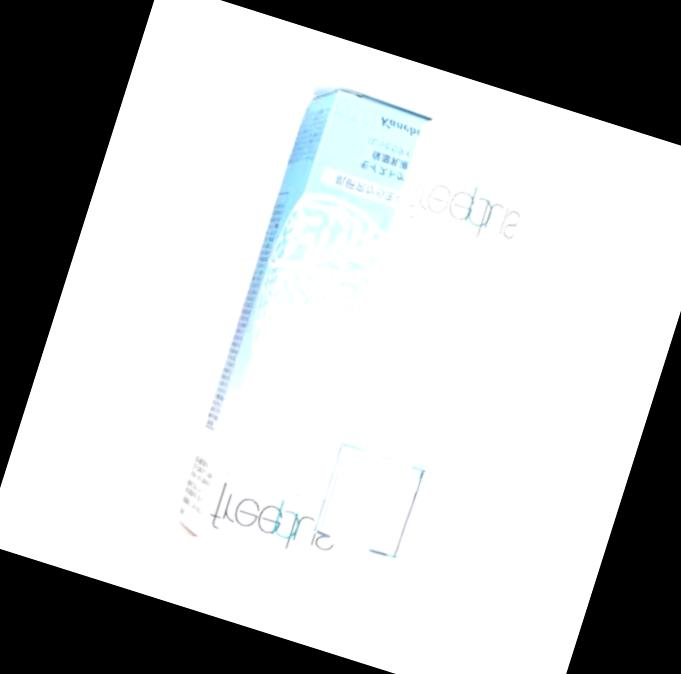cosmetic: (291, 109, 550, 570)
